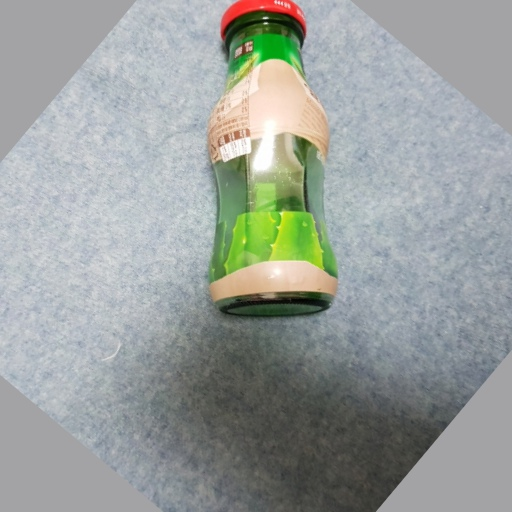Glass_4: (204, 1, 345, 323)
